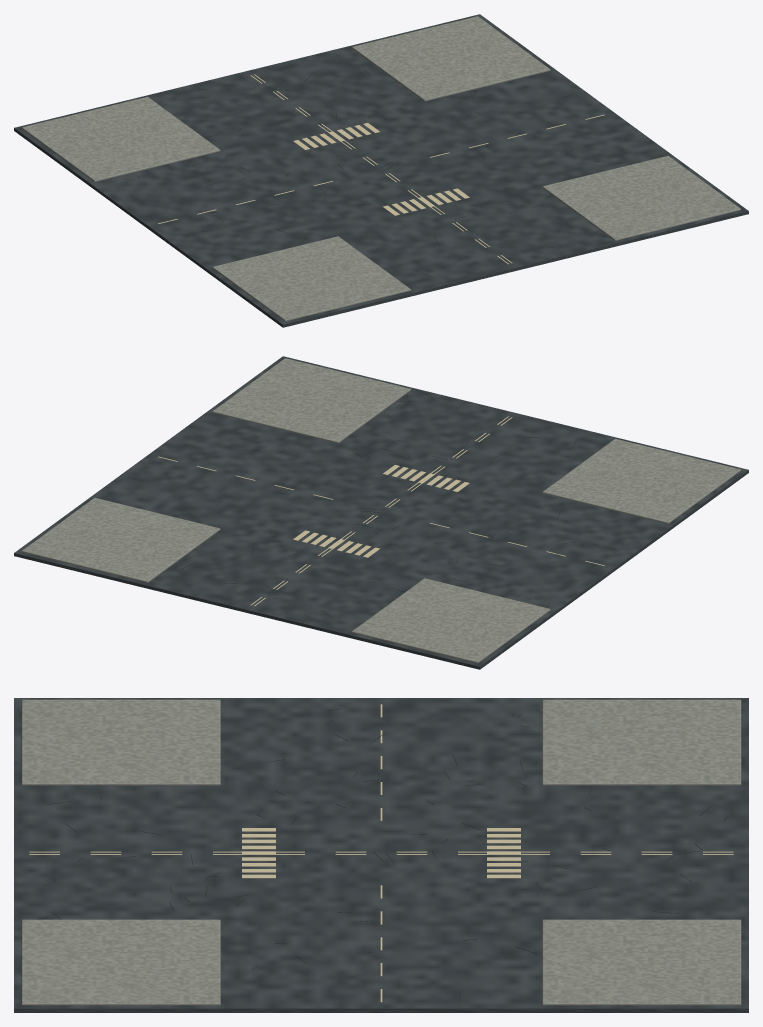
Rendered from intersection.glb.
3 renders of one model, top to bottom at view 1: azimuth 30°, elevation 25°; view 2: azimuth 150°, elevation 25°; view 3: azimuth 270°, elevation 25°, orthographic. The views are drawn at different scales.
Parts seen in each view (by area): view 1: Intersection; view 2: Intersection; view 3: Intersection.
Boxes of the visible parts, x1=… form: Intersection: x1=14, y1=14, x2=748, y2=327; Intersection: x1=14, y1=356, x2=748, y2=669; Intersection: x1=14, y1=698, x2=748, y2=1012.
Size of the model in its own units: 48 by 0.45 by 48.
4 materials, 2 textured.
